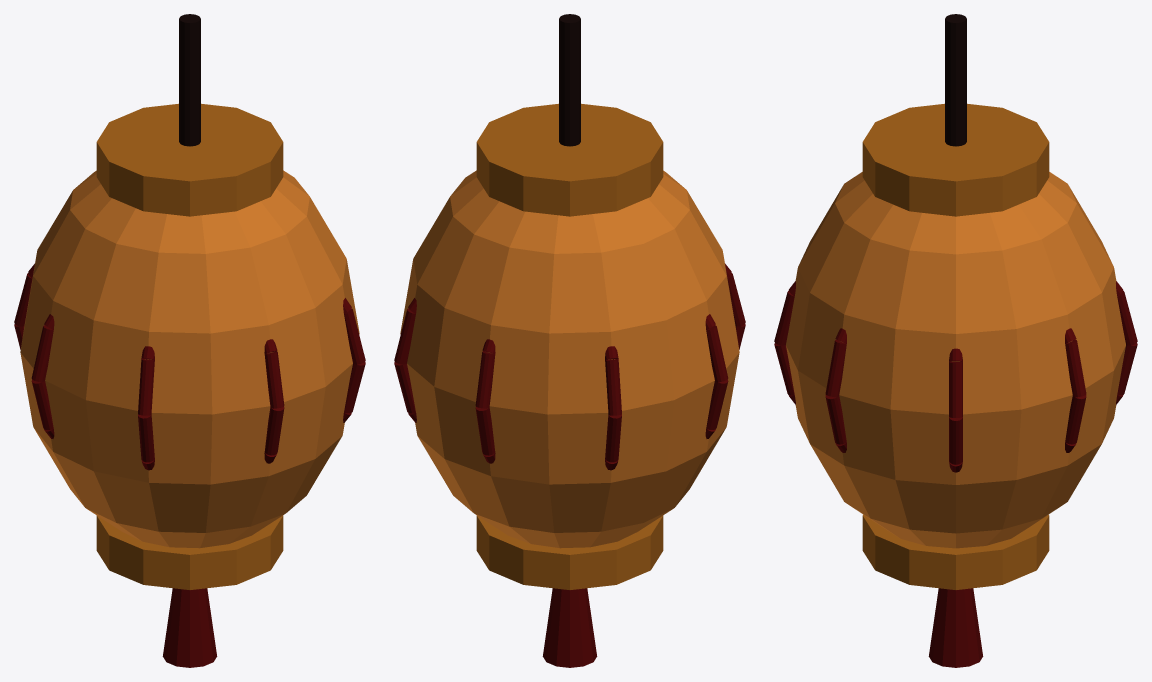
Rendered from lantern.glb.
The picture shows the model from 3 angles, left to right: view 1: azimuth 30°, elevation 25°; view 2: azimuth 150°, elevation 25°; view 3: azimuth 270°, elevation 25°; orthographic projection.
Parts seen in each view (by area): view 1: 古宅灯笼; view 2: 古宅灯笼; view 3: 古宅灯笼.
Part boxes in pixels (<box>): 古宅灯笼: <box>14,14,365,667</box>; 古宅灯笼: <box>394,14,745,667</box>; 古宅灯笼: <box>774,14,1137,667</box>.
Size of the model in its own units: 0.4675 by 0.905 by 0.4675.
